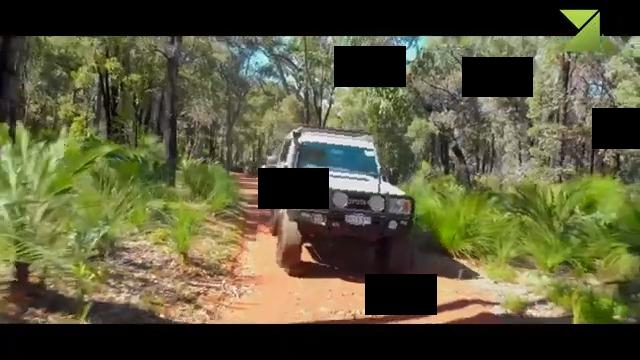MIL_HMMWV: (257, 125, 421, 280)
